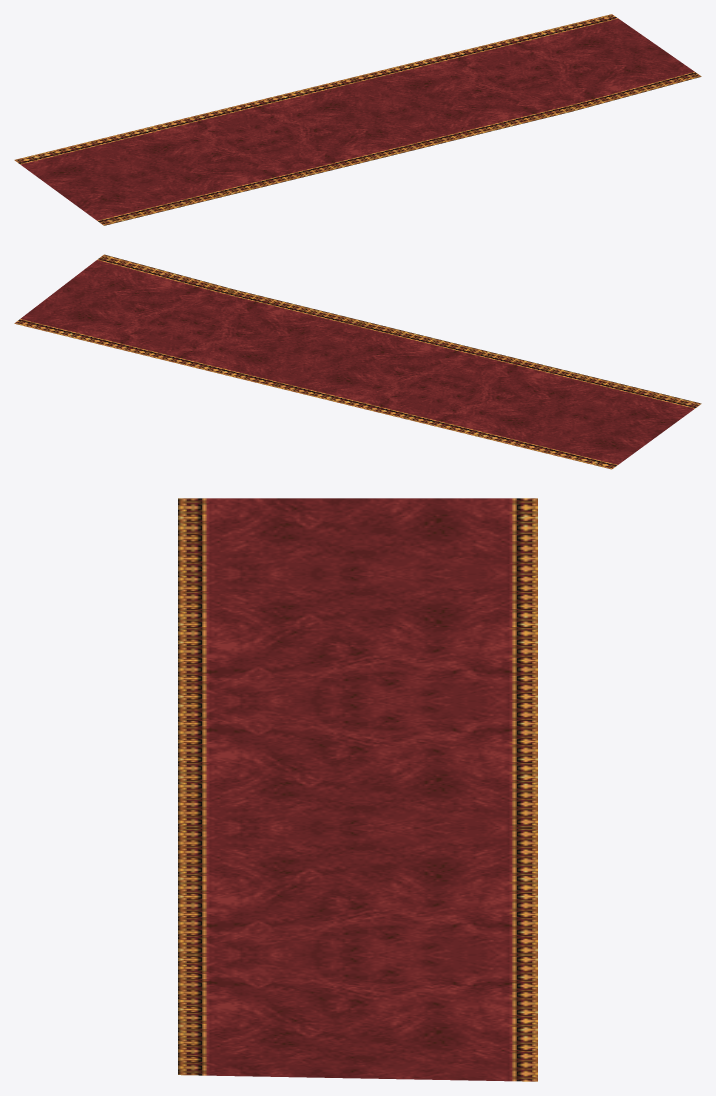
3 renders of one model, top to bottom at view 1: azimuth 30°, elevation 25°; view 2: azimuth 150°, elevation 25°; view 3: azimuth 270°, elevation 25°, orthographic. The views are drawn at different scales.
Visible parts, largest first — view 1: a122; view 2: a122; view 3: a122.
Part boxes in pixels (x1,y1,x2,y2): a122: (14,14,701,225); a122: (14,254,701,469); a122: (178,498,537,1081).
Bounding box in the file's own units: 5942 × 31.5 × 1550.
